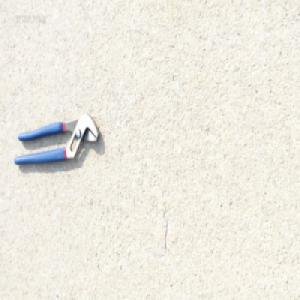Pliers: (12, 112, 99, 166)
